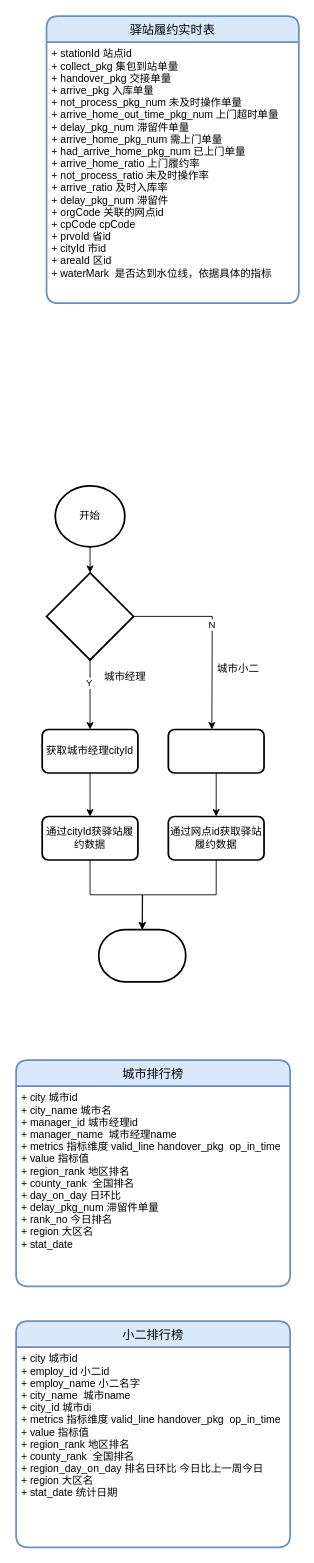
This 314x1563 diagram has some shape labels left out. Here are the shapes that lost their labels. From the top down, the centre of each, then its label:
the point at 89,616: 是否为城市经理
the point at 215,750: 获取权限网点列表
the point at 141,955: 结束
